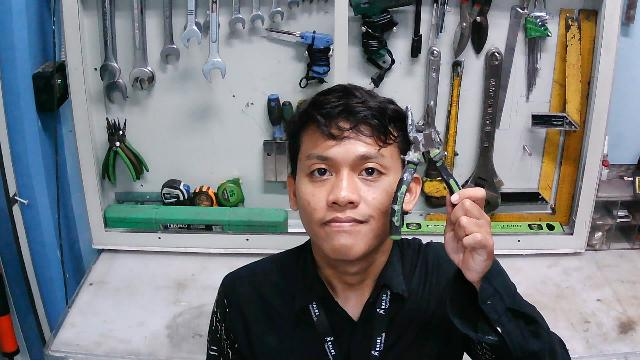tang_kombinasi: (390, 102, 462, 226)
